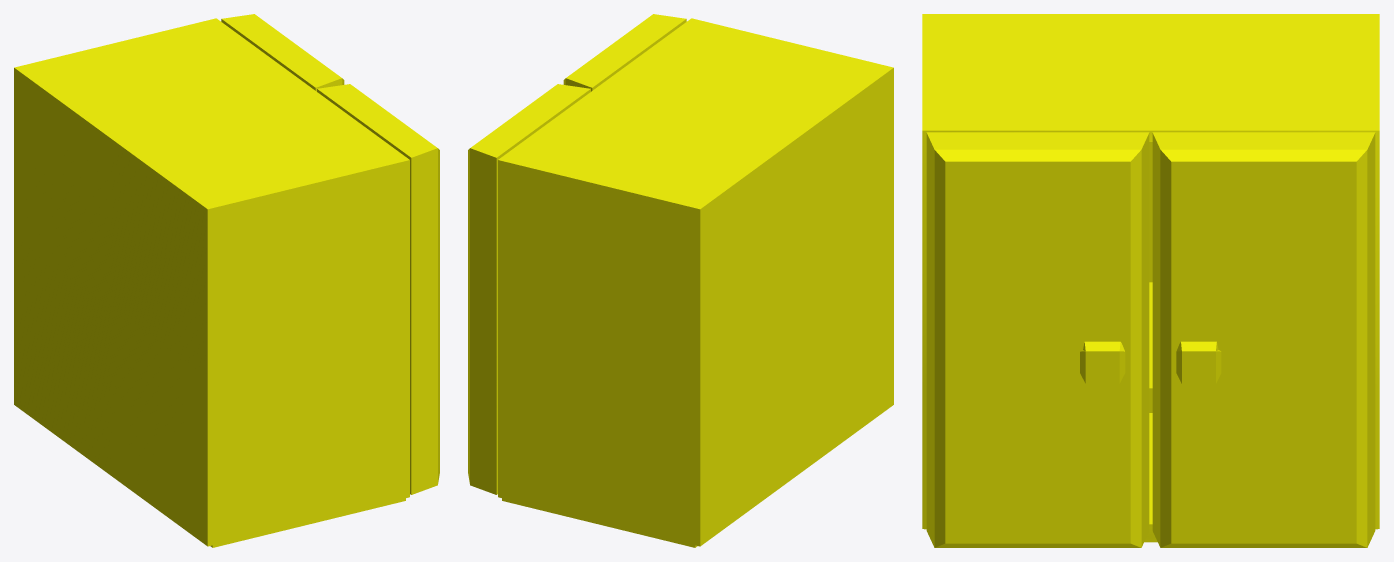
The picture shows the model from 3 angles, left to right: view 1: azimuth 30°, elevation 25°; view 2: azimuth 150°, elevation 25°; view 3: azimuth 270°, elevation 25°; orthographic projection. The views are drawn at different scales.
Visible parts, largest first — view 1: cabinet_, door_R, door_L; view 2: cabinet_, door_L, door_R; view 3: door_L, door_R, cabinet_.
Part boxes in pixels (x1=…): cabinet_: x1=14, y1=18, x2=409, y2=547; door_R: x1=317, y1=84, x2=439, y2=494; door_L: x1=221, y1=14, x2=344, y2=91; cabinet_: x1=498, y1=18, x2=893, y2=547; door_L: x1=468, y1=84, x2=590, y2=494; door_R: x1=563, y1=14, x2=686, y2=91; door_L: x1=1152, y1=132, x2=1375, y2=547; door_R: x1=926, y1=132, x2=1149, y2=547; cabinet_: x1=922, y1=14, x2=1379, y2=542.
Bounding box in the file's own units: 0.0127 × 0.0165 × 0.0167.
1 material, 1 textured.
